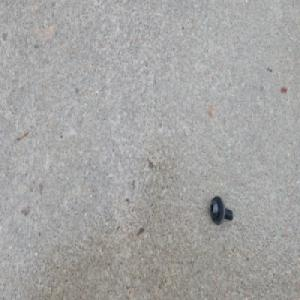BoltWasher: (210, 192, 235, 224)
